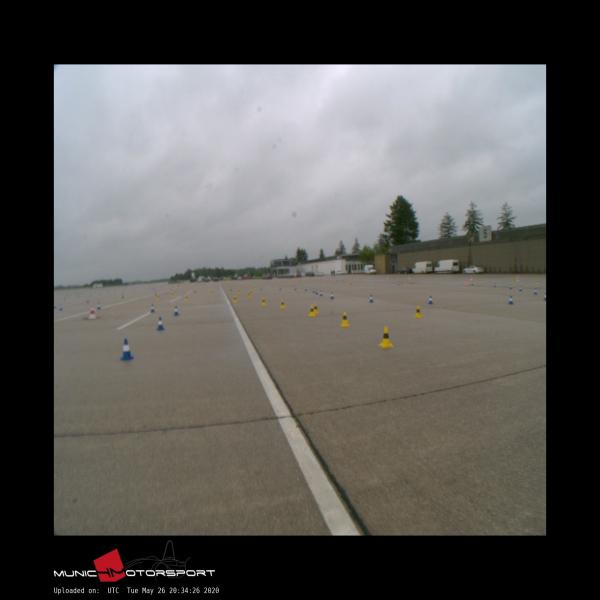blue_cone: (119, 338, 133, 360), (156, 317, 165, 330), (173, 306, 179, 315), (428, 296, 434, 304), (508, 296, 514, 304), (150, 304, 155, 313), (369, 294, 374, 302), (97, 302, 101, 310), (534, 288, 538, 295), (331, 292, 334, 299), (544, 293, 546, 301), (519, 286, 522, 291)
yellow_cone: (378, 326, 392, 347), (340, 311, 349, 326), (414, 305, 423, 318), (308, 305, 314, 316), (313, 303, 318, 313), (280, 300, 286, 308), (262, 297, 266, 305), (233, 296, 237, 302), (185, 295, 188, 301)
